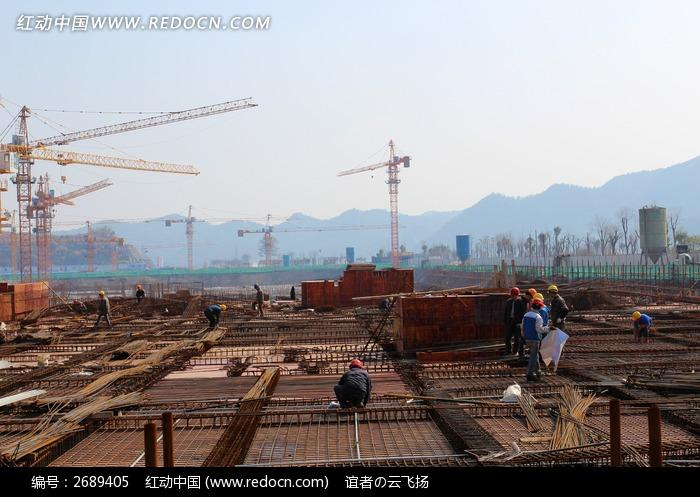helmet: (348, 359, 365, 371), (532, 299, 545, 310), (632, 311, 642, 324), (511, 287, 522, 297), (548, 285, 559, 294), (529, 288, 538, 299), (535, 294, 546, 303), (98, 290, 107, 298), (221, 304, 228, 313), (254, 284, 261, 292), (388, 296, 395, 304), (136, 284, 144, 291)
